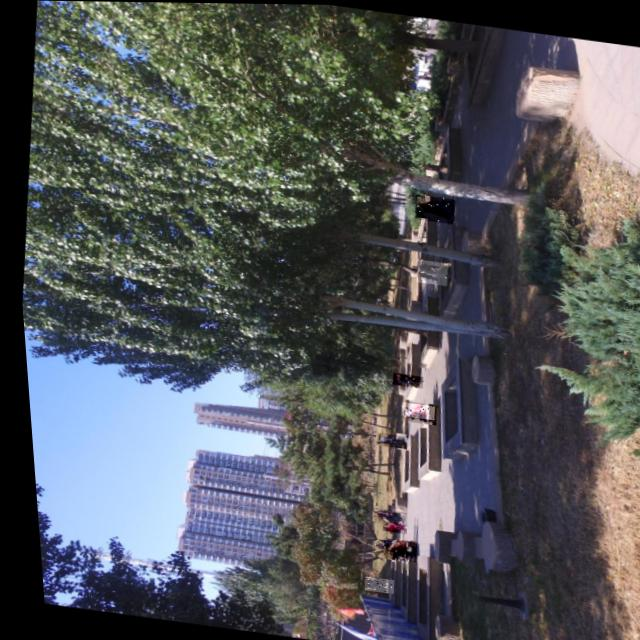Person: (409, 192, 453, 222), (411, 257, 445, 283), (375, 536, 409, 560), (362, 505, 400, 525), (400, 399, 431, 423), (365, 536, 394, 559), (394, 399, 429, 418), (373, 536, 406, 556), (355, 574, 387, 592), (369, 428, 401, 446), (386, 369, 418, 386), (373, 518, 399, 532)
